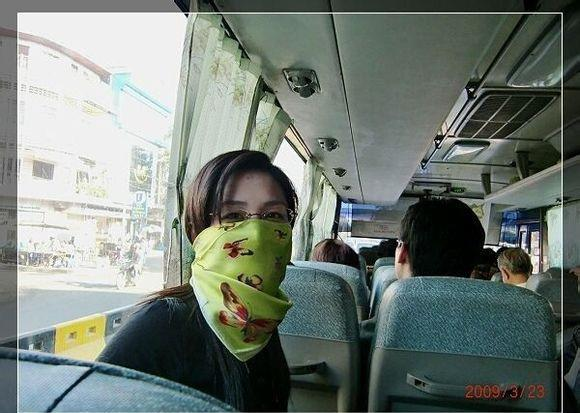OK: (196, 183, 298, 285)
